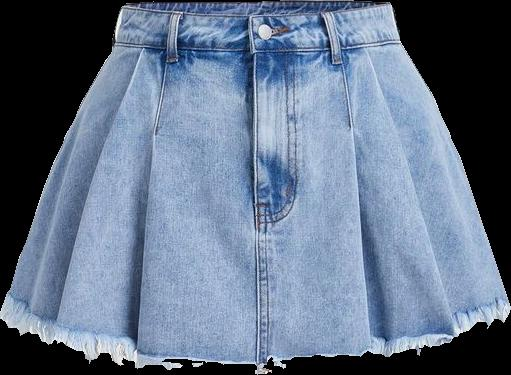Hemline: (0, 309, 510, 371)
Waistline: (112, 37, 403, 52), (121, 3, 391, 19)
